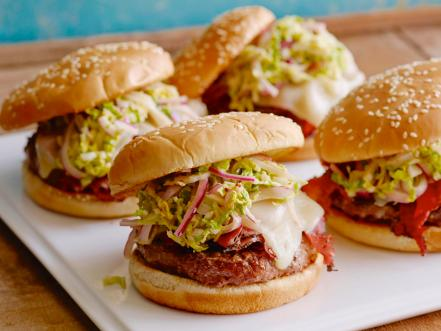hamburger_buns: (1, 35, 181, 125), (316, 58, 441, 161), (106, 115, 307, 177)
